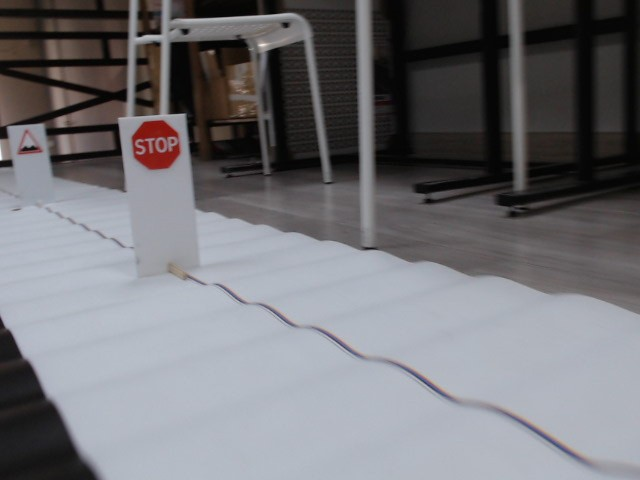Stop: (133, 118, 181, 172)
